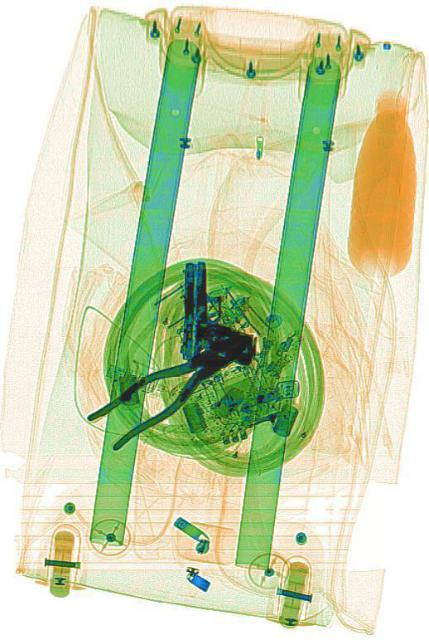Gun: (175, 256, 262, 368)
Pliers: (84, 310, 259, 458)
